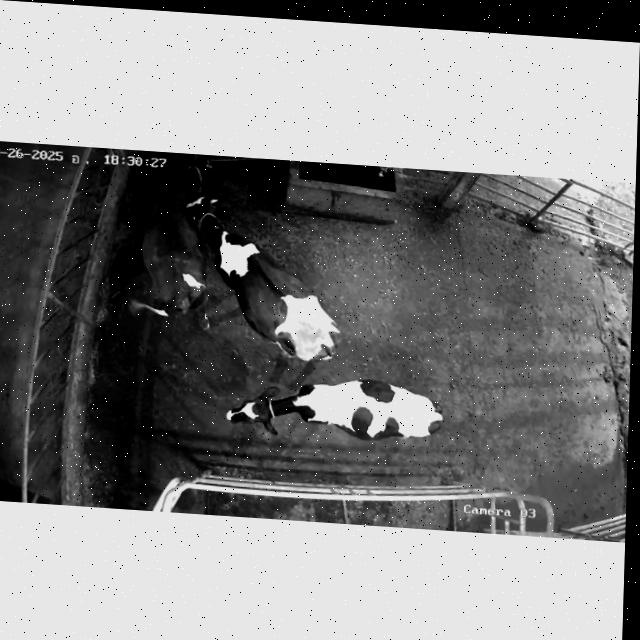stand: (185, 193, 341, 387), (212, 361, 467, 468), (142, 159, 222, 328)
